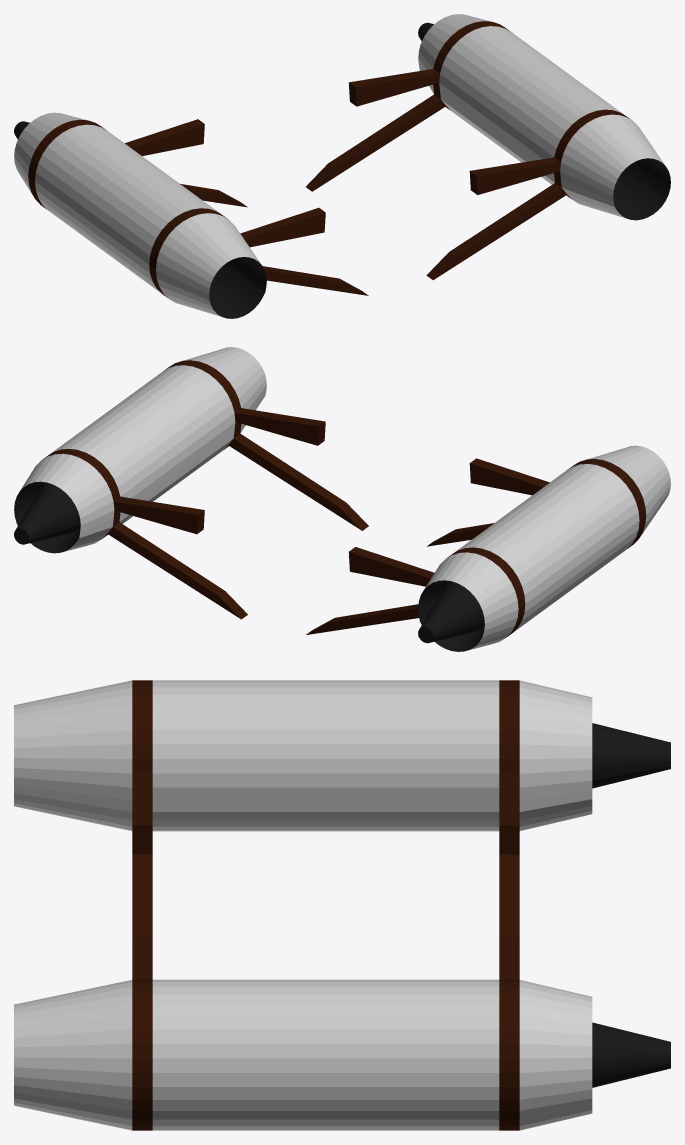
File: engine.obj
3 views of the same model, one above another, from view 1: azimuth 30°, elevation 25°; view 2: azimuth 150°, elevation 25°; view 3: azimuth 270°, elevation 25° (orthographic). The views are drawn at different scales.
Visible parts, largest first — view 1: Cylinder.001; view 2: Cylinder.001; view 3: Cylinder.001.
Part boxes in pixels (left/top/right/bottom): Cylinder.001: left=14, top=14, right=670, bottom=318; Cylinder.001: left=14, top=347, right=670, bottom=651; Cylinder.001: left=14, top=680, right=670, bottom=1130.
Bounding box in the file's own units: 3.97 × 0.9535 × 3.04.
